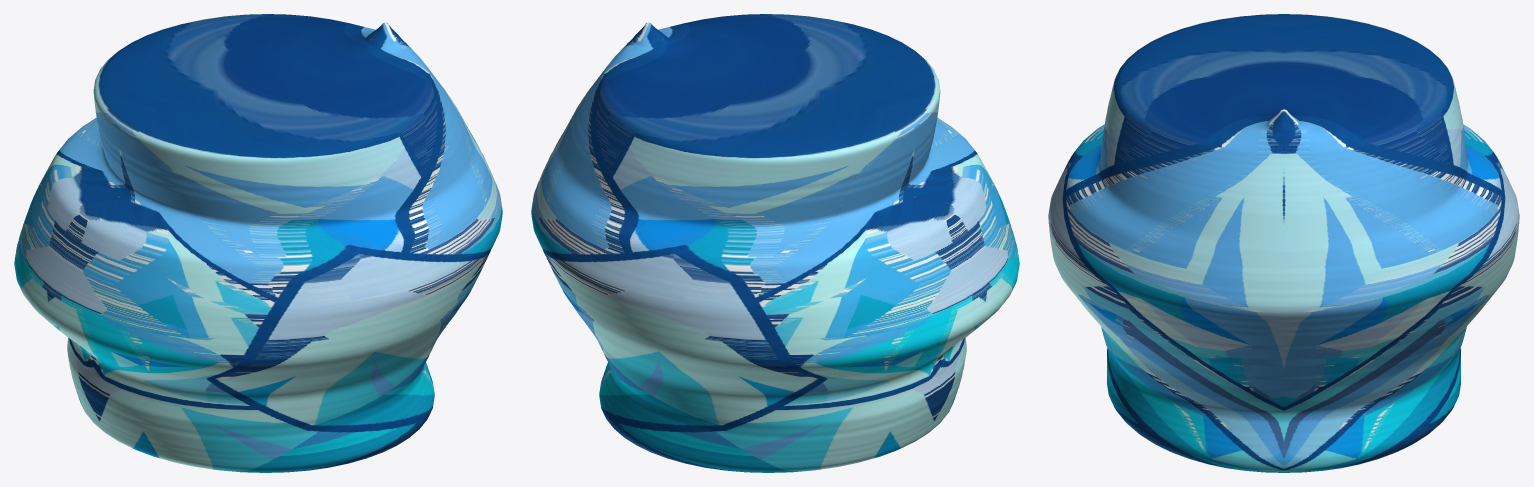
File: prism_cluster.glb
The picture shows the model from 3 angles, left to right: view 1: azimuth 30°, elevation 25°; view 2: azimuth 150°, elevation 25°; view 3: azimuth 270°, elevation 25°; orthographic projection.
Visible parts, largest first — view 1: prism_cluster; view 2: prism_cluster; view 3: prism_cluster.
Boxes of the visible parts, left/top/right/bottom form: prism_cluster: left=14, top=14, right=502, bottom=472; prism_cluster: left=531, top=14, right=1019, bottom=472; prism_cluster: left=1048, top=14, right=1519, bottom=472.
Size of the model in its own units: 0.9955 by 0.8205 by 0.9597.
1 material, 1 textured.
